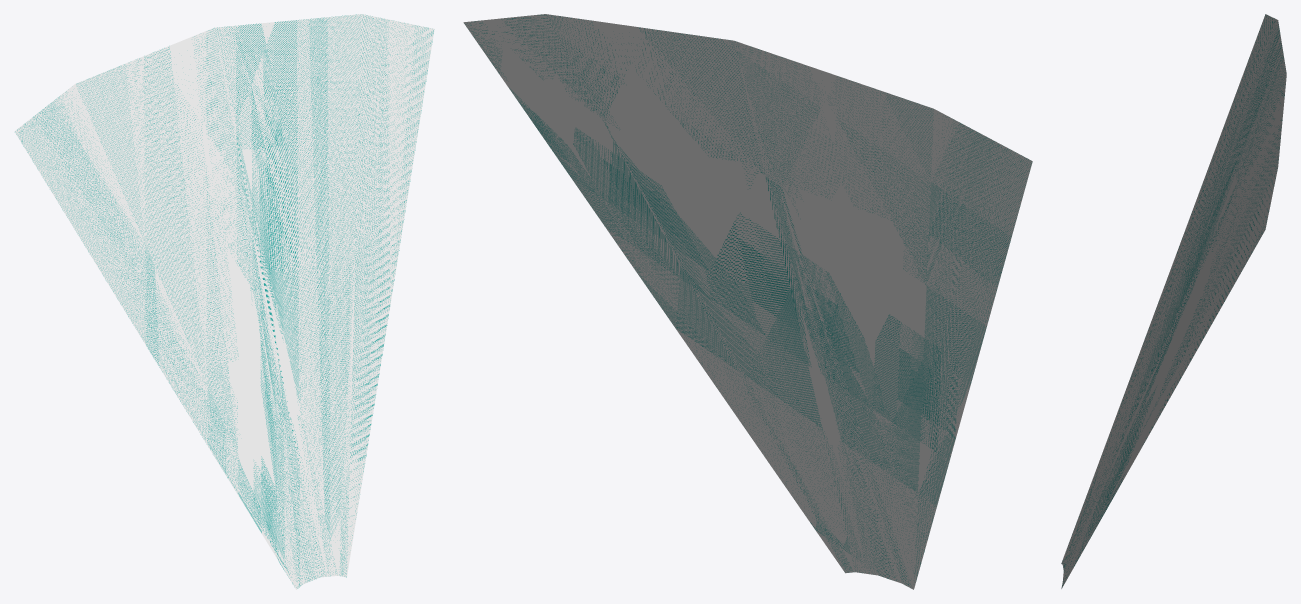
The model's file is original-23.obj.
3 views of the same model, side by side, from view 1: azimuth 30°, elevation 25°; view 2: azimuth 150°, elevation 25°; view 3: azimuth 270°, elevation 25° (orthographic). The views are drawn at different scales.
Parts seen in each view (by area): view 1: Group1/mesh7/mesh7-geometry/material_3#mesh7-geometry; view 2: Group1/mesh7/mesh7-geometry/material_3#mesh7-geometry; view 3: Group1/mesh7/mesh7-geometry/material_3#mesh7-geometry.
Boxes of the visible parts, box(x1,y1,x2,y2) form: Group1/mesh7/mesh7-geometry/material_3#mesh7-geometry: box(14, 14, 434, 589); Group1/mesh7/mesh7-geometry/material_3#mesh7-geometry: box(463, 14, 1032, 589); Group1/mesh7/mesh7-geometry/material_3#mesh7-geometry: box(1061, 14, 1286, 588).
Bounding box in the file's own units: 0.0601 × 0.0653 × 0.0266.
